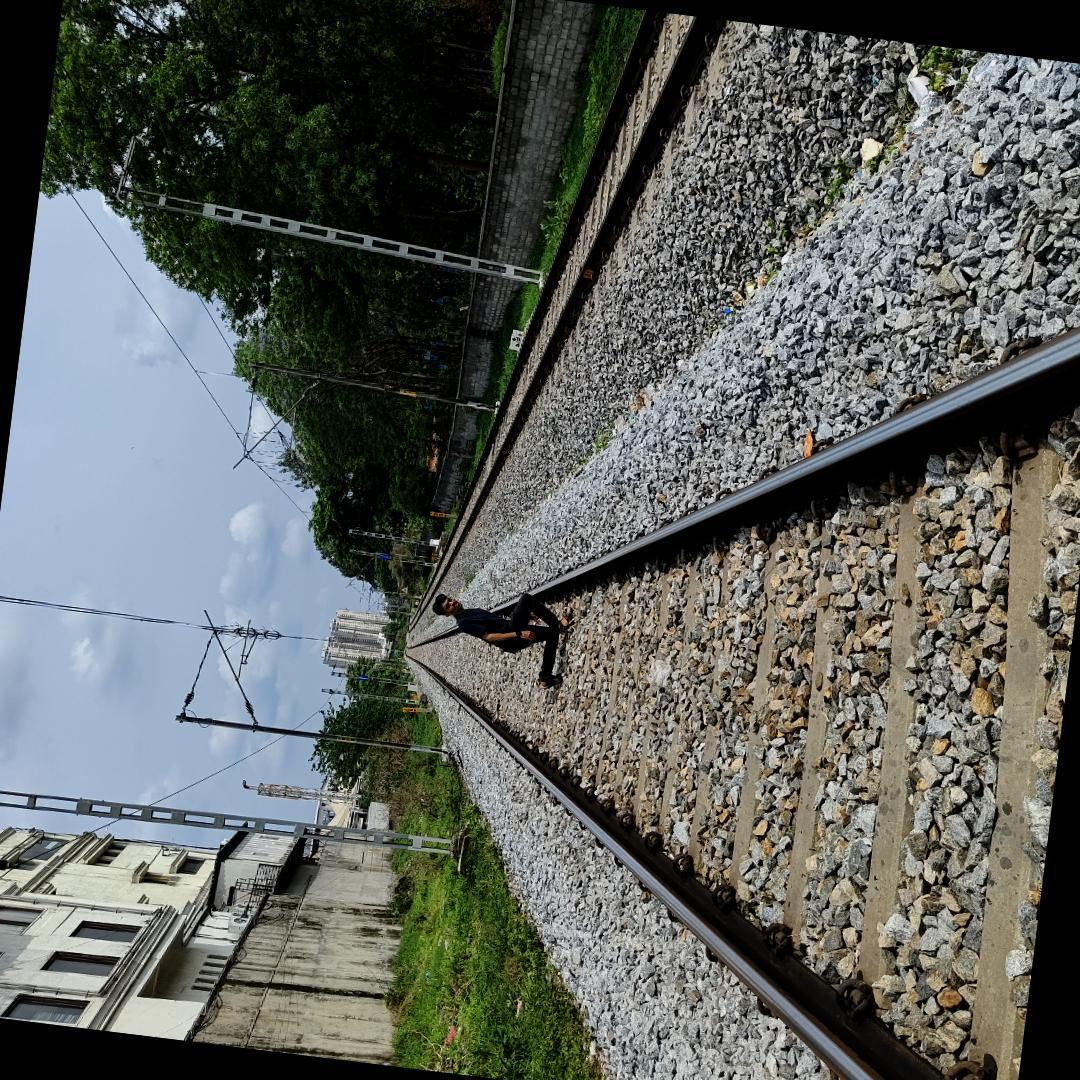sitting: (428, 580, 576, 698)
track: (402, 302, 1080, 1080)
